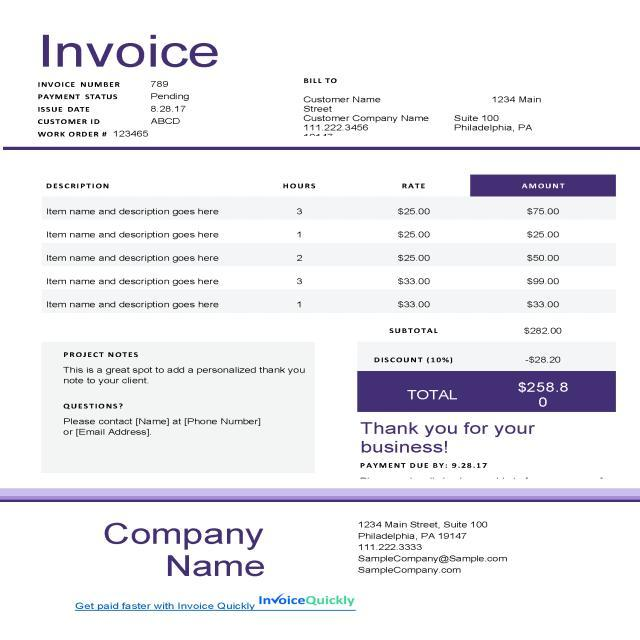customer_address: (450, 94, 553, 136)
customer_name: (300, 93, 384, 106)
invoice_date: (144, 102, 191, 114)
invoice_number: (145, 79, 176, 87)
invoice_subtotal: (519, 322, 567, 339)
invoice_total: (512, 375, 578, 395)
item_description: (37, 203, 227, 319)
item_quantity: (289, 201, 310, 315)
item_total_price: (522, 203, 564, 313)
item_unit_price: (392, 203, 436, 313)
supplier_address: (355, 516, 501, 542)
supplier_name: (102, 514, 276, 581)
